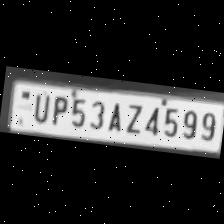3: (84, 96, 106, 130)
4: (139, 101, 162, 136)
5: (64, 92, 88, 128), (157, 104, 180, 138)
9: (195, 107, 219, 141), (177, 105, 200, 140)
A: (103, 97, 124, 132)
P: (46, 92, 68, 127)
U: (26, 88, 50, 124)
Z: (118, 98, 142, 134)
